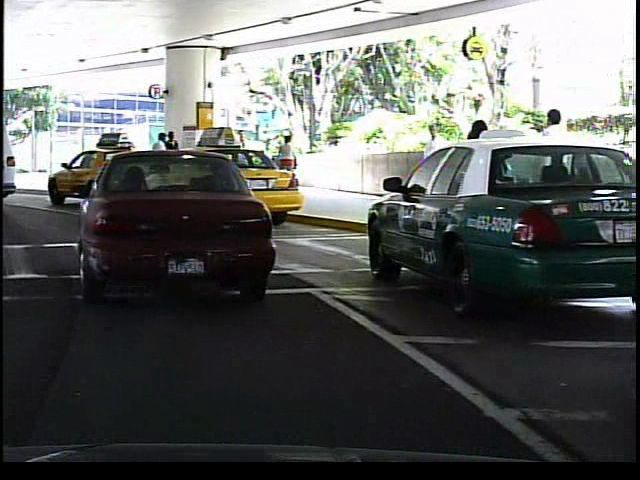person: (461, 111, 510, 233), (533, 103, 577, 234), (417, 118, 453, 210), (274, 132, 300, 192), (229, 124, 253, 189), (149, 132, 170, 189), (163, 129, 182, 189)
